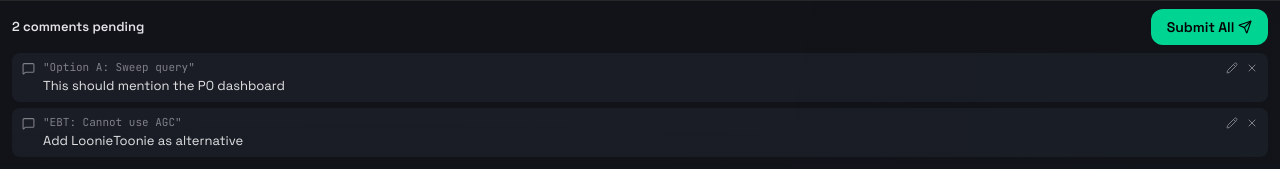
Scenario: CommentOverlay › CommentList › enters edit mode when Edit button is clicked
This screenshot has width=1280, height=169.
Click the button named "edit" in the row of "Option A: Sweep query": {"x": 1232, "y": 68} x1=1226 y1=59 x2=1238 y2=78
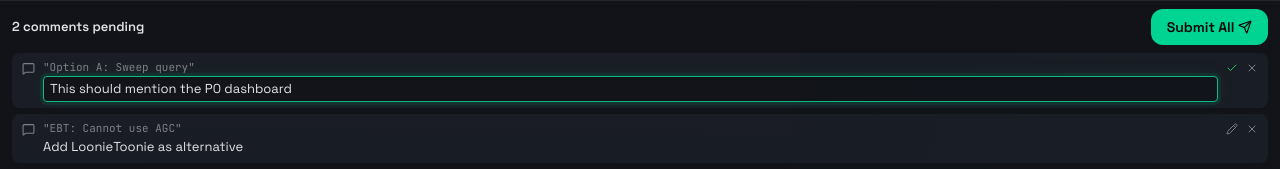
Check: the field showing "This should mention the P0 dashboard" is shown, box x1=43 y1=76 x2=1218 y2=102
